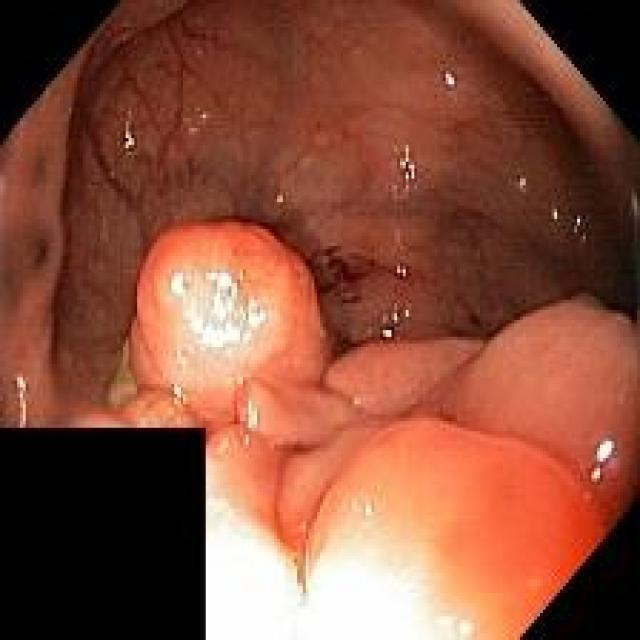Polyps: (121, 221, 331, 433)
